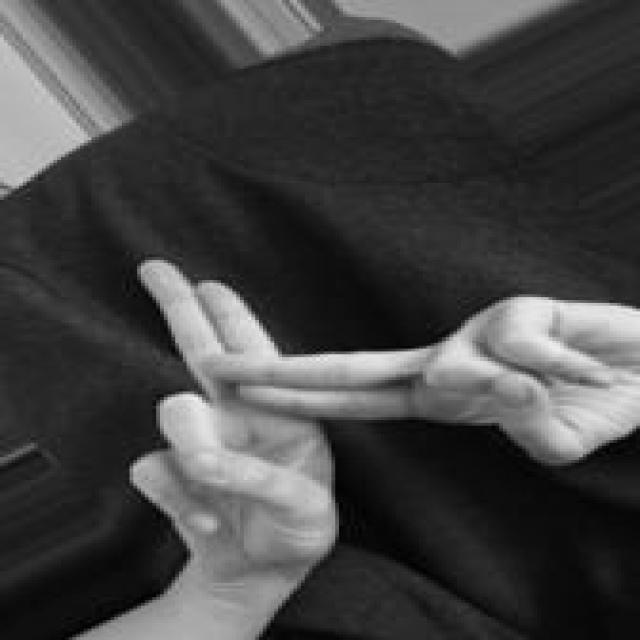K: (120, 250, 640, 605)
